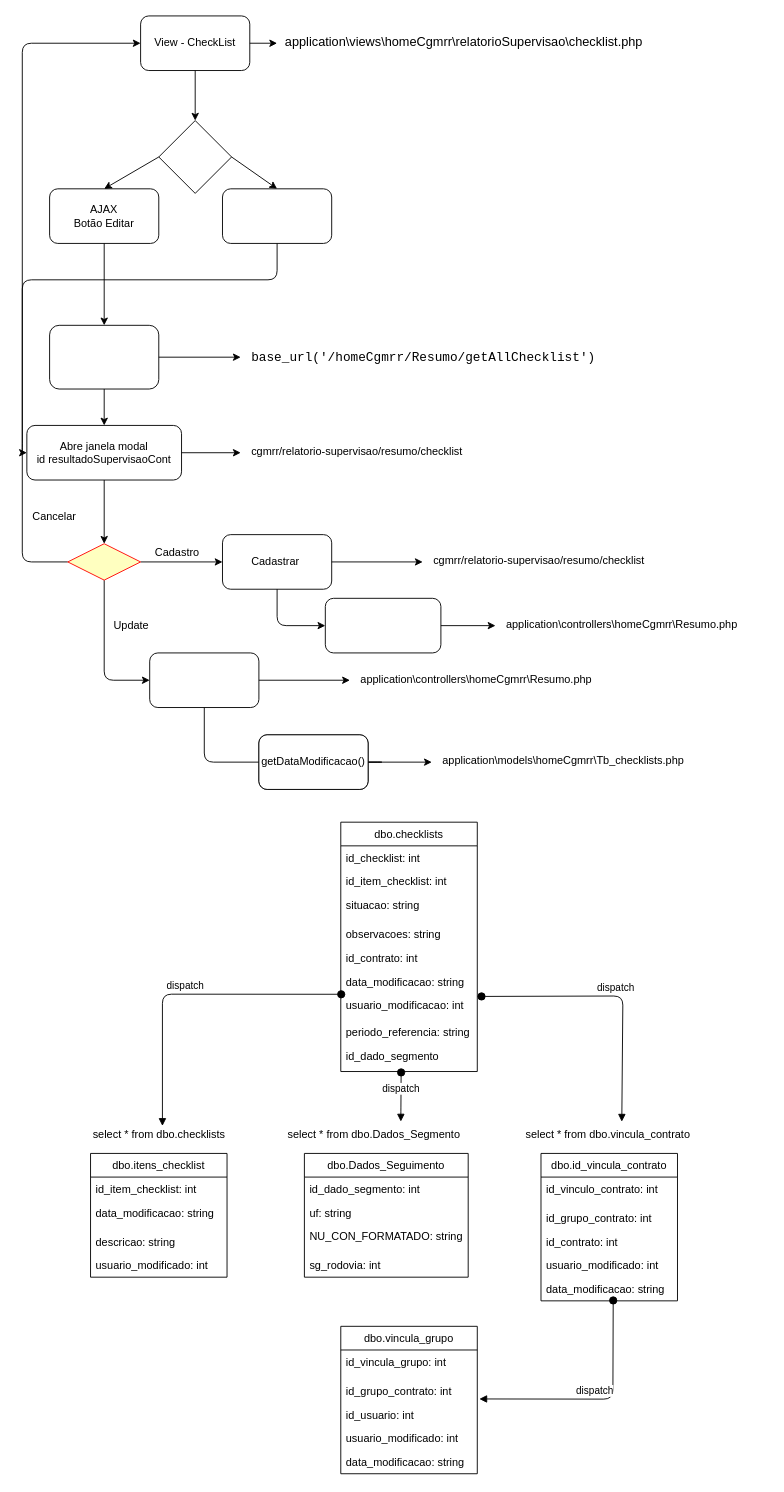
This 784x1492 diagram has some shape labels left out. Each missing label, with the centre of its shape:
"Botão Lançar Checkist" goes at point (277, 215).
"Cadastrar checklist()" goes at point (382, 625).
"Chama função Ajax na própria view e carrega os dados" goes at point (104, 356).
"Condition" goes at point (104, 561).
"Update getCheklist()" goes at point (204, 680).
